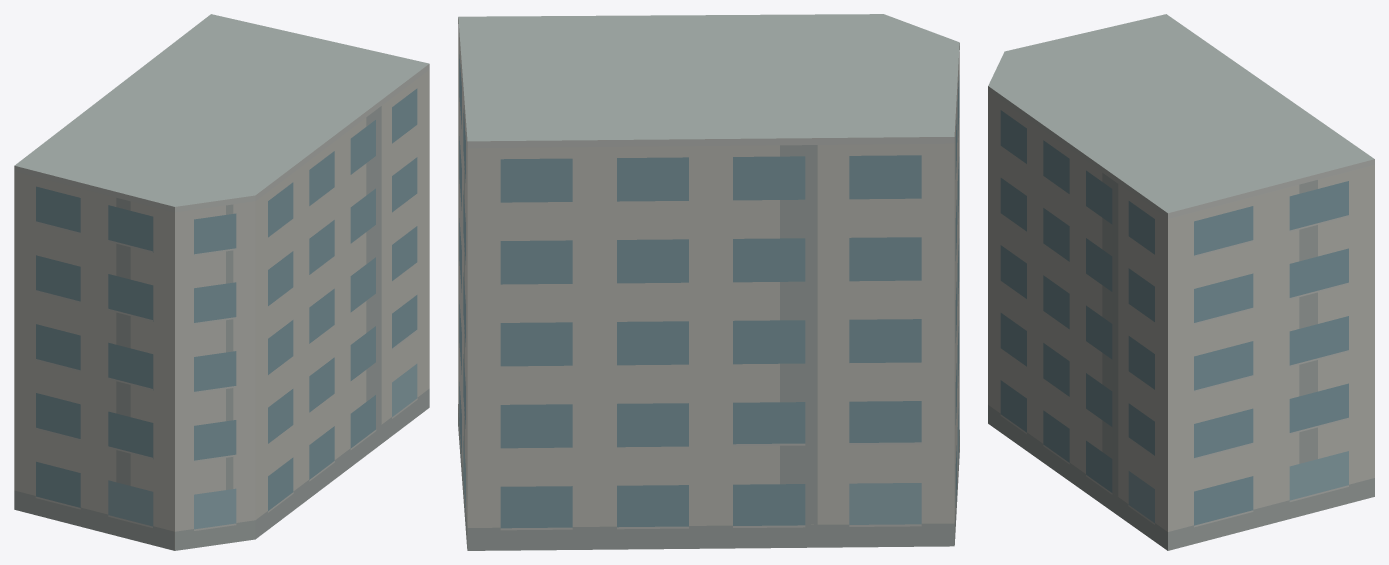
The model's file is survey-upis-32528236.glb.
3 renders of one model, left to right at view 1: azimuth 30°, elevation 25°; view 2: azimuth 150°, elevation 25°; view 3: azimuth 270°, elevation 25°, orthographic. The views are drawn at different scales.
Parts seen in each view (by area): view 1: survey-upis-32528236.tmp; view 2: survey-upis-32528236.tmp; view 3: survey-upis-32528236.tmp.
Boxes of the visible parts, x1,y1,x2,y2 form: survey-upis-32528236.tmp: (14,14,429,550); survey-upis-32528236.tmp: (458,14,959,550); survey-upis-32528236.tmp: (988,14,1374,550).
Bounding box in the file's own units: 18.24 × 14.4 × 14.96.
